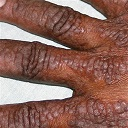Pityriasis Rubra Pilaris: (88, 17, 128, 125), (35, 4, 83, 31), (7, 51, 63, 69), (1, 104, 52, 121)
